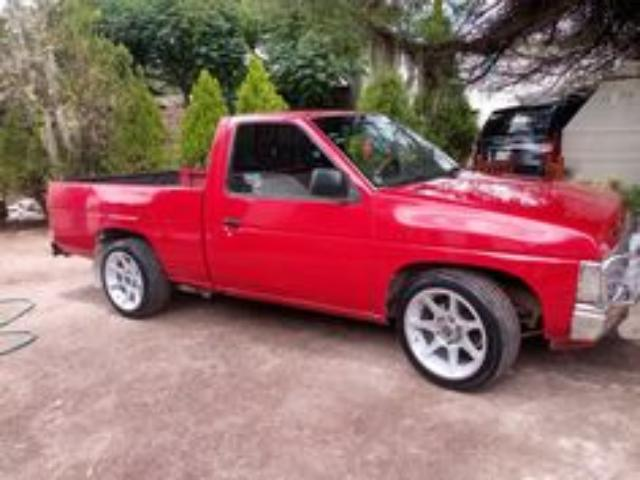pickup-truck: (45, 110, 639, 392)
